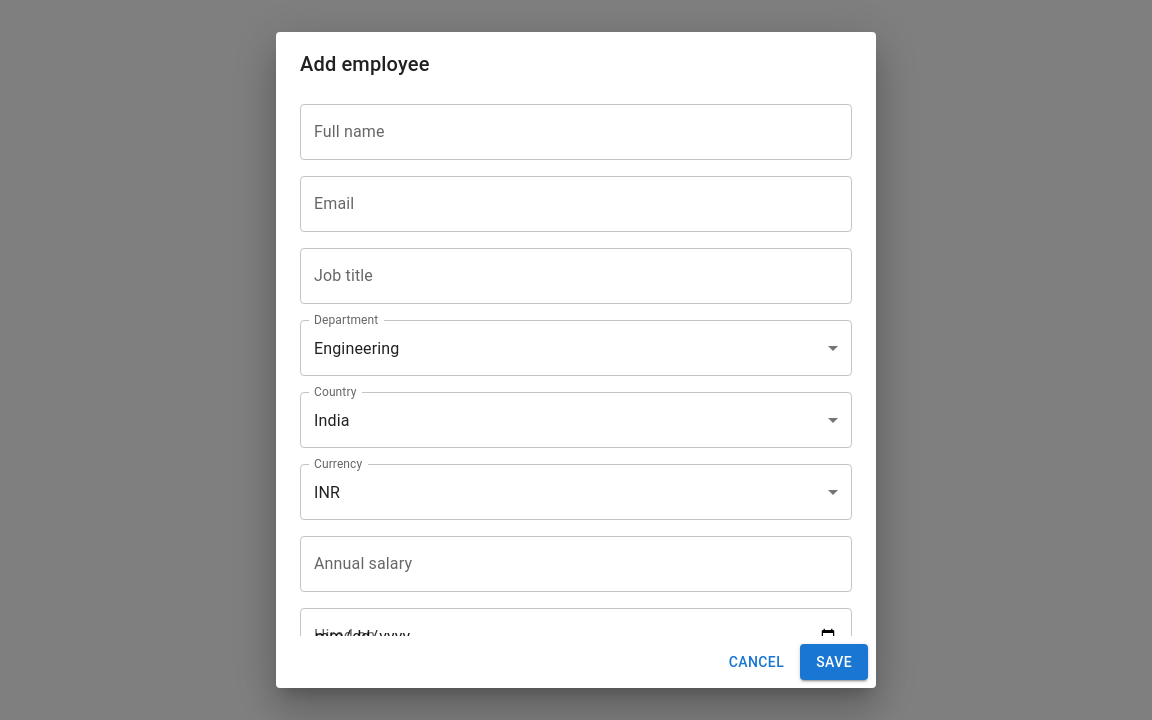
it: EmployeeDialog › shows the validation errors returned by the API
This screenshot has width=1152, height=720.
Click the button "Save". click: [834, 662]
box: [800,644,868,680]
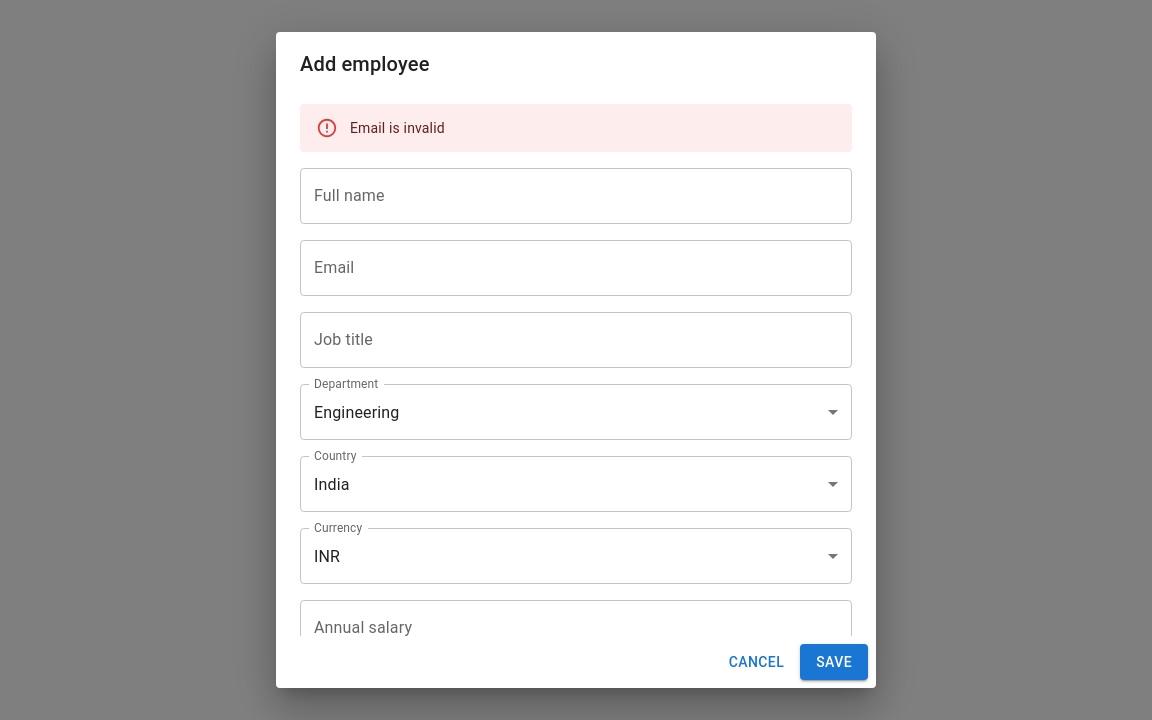
Result: the text "Email is invalid" is shown at [350,120,445,136]
